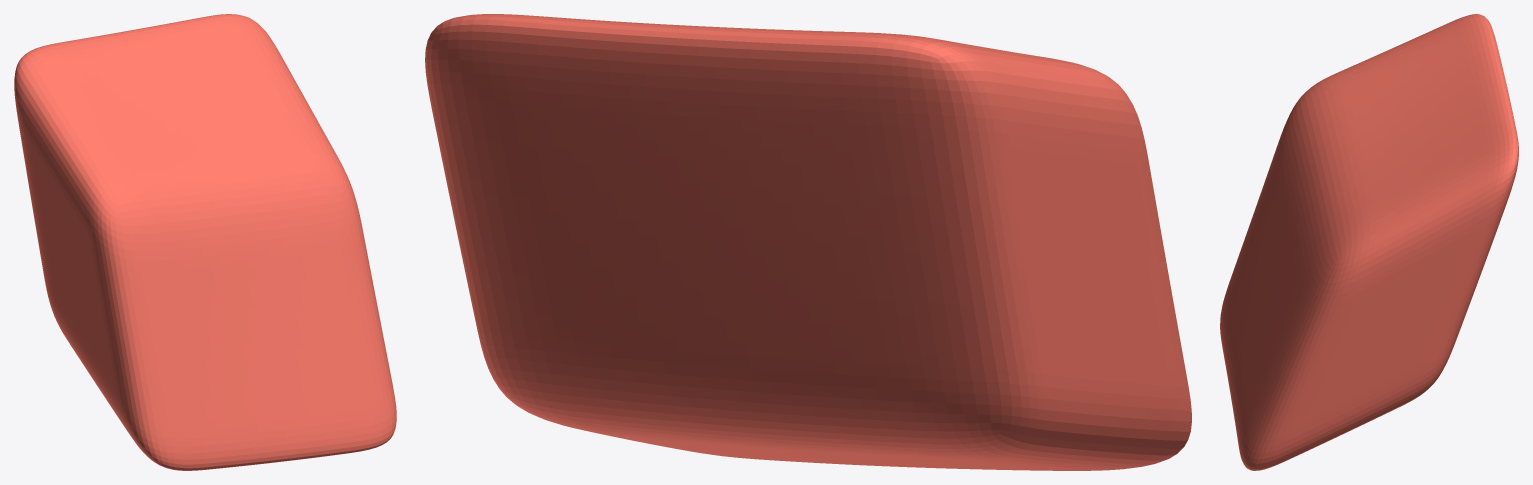
The picture shows the model from 3 angles, left to right: view 1: azimuth 30°, elevation 25°; view 2: azimuth 150°, elevation 25°; view 3: azimuth 270°, elevation 25°; orthographic projection. The views are drawn at different scales.
Parts seen in each view (by area): view 1: waves_1.057; view 2: waves_1.057; view 3: waves_1.057.
Boxes of the visible parts, bbox=[...] form: waves_1.057: bbox=[14, 14, 396, 470]; waves_1.057: bbox=[425, 14, 1191, 470]; waves_1.057: bbox=[1220, 14, 1518, 470].
Bounding box in the file's own units: 30.42 × 36.71 × 28.78.
